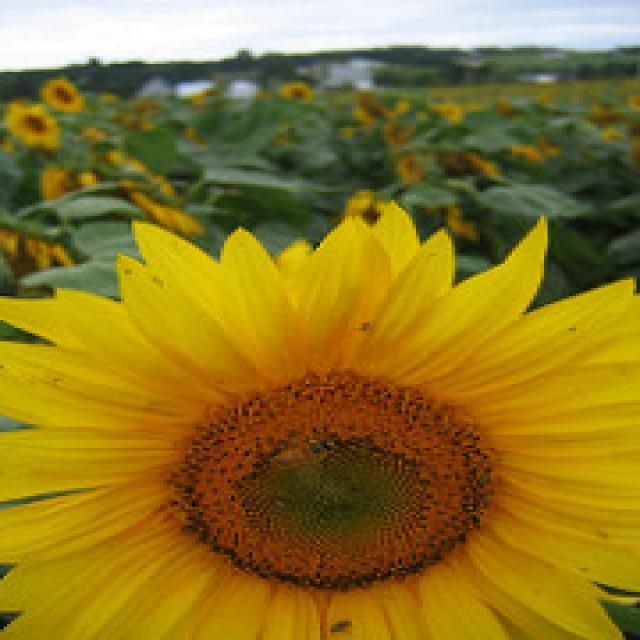sunflower: (3, 205, 640, 639), (3, 227, 69, 271), (5, 102, 59, 146), (44, 79, 78, 112), (280, 82, 311, 102)
